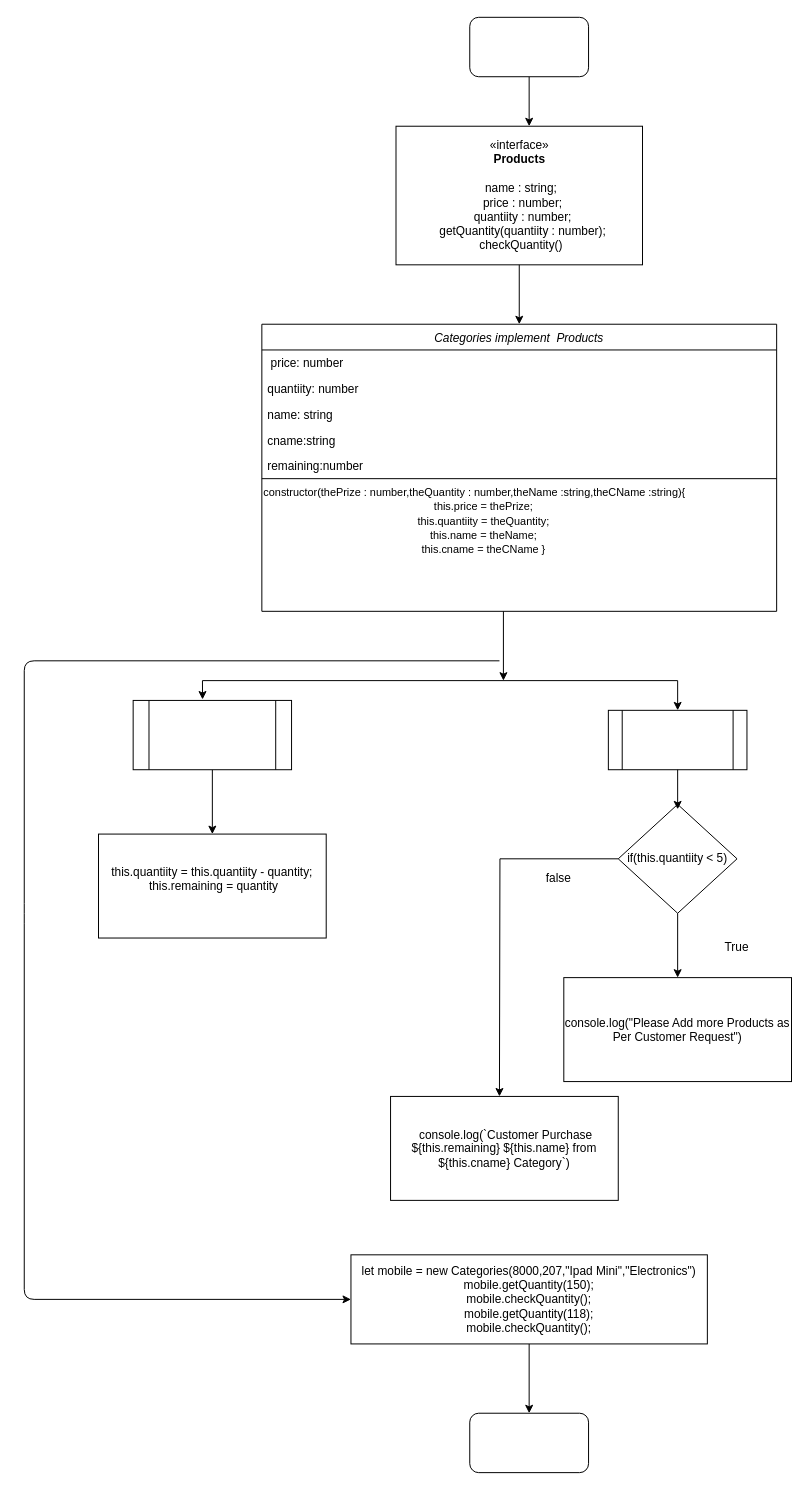
This 809x1490 diagram has some shape labels left out. The shapes that lost their labels are listed below. From the top down, each one's box as (x1, y1, x2, y2) in pixels, then its label:
(469, 16, 589, 77): Start
(132, 699, 292, 770): getQuantity(quantity: number)
(607, 709, 747, 770): checkQuantity()
(469, 1412, 589, 1473): Stop
